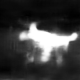plane: (18, 19, 80, 69)
